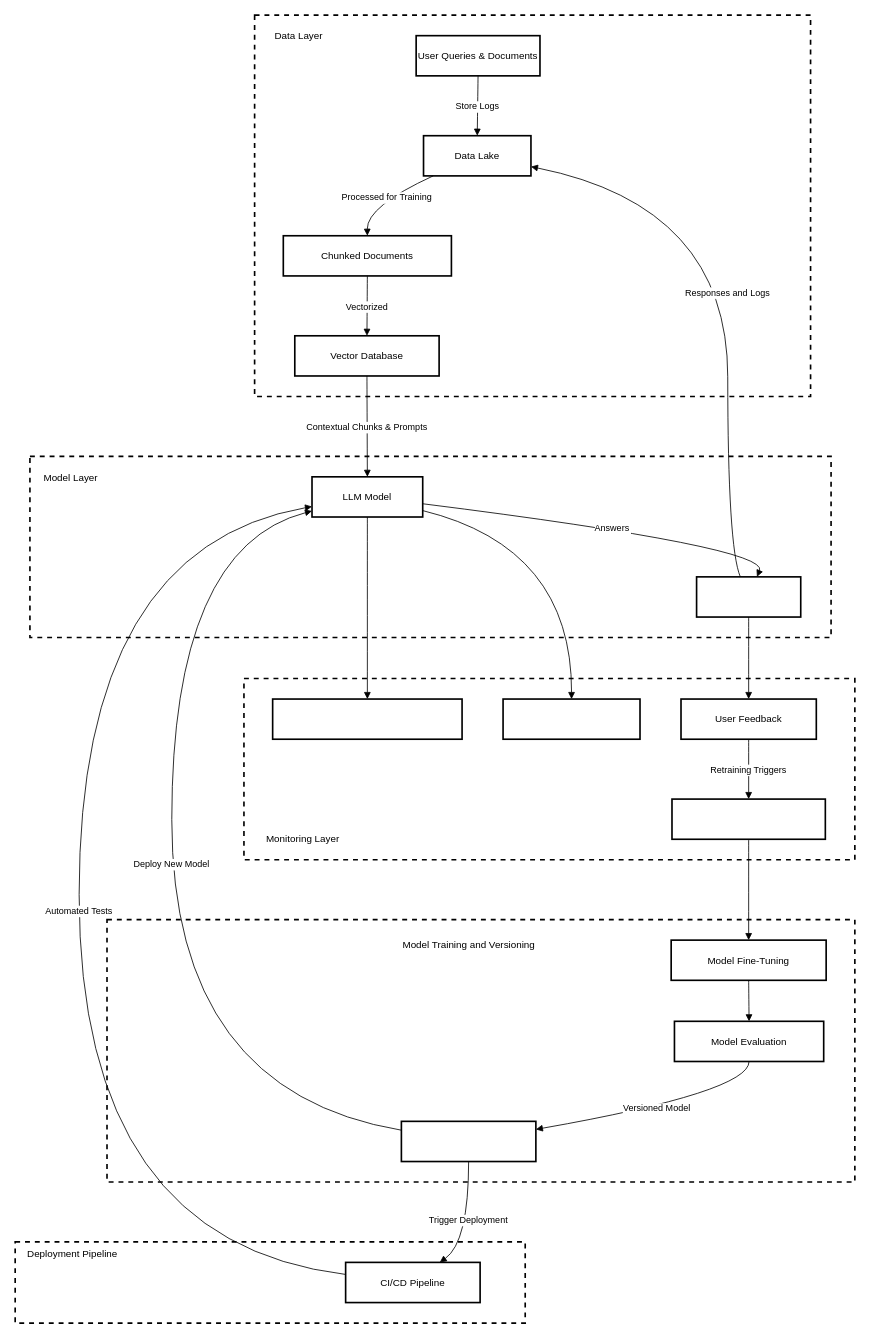
Image size: 869x1337. Some labels were removed from this diagram. The centre of each missing label's shape, as x and y in pixels:
"API Layer" goes at (748,596).
"Drift Detection" goes at (571,719).
"Model Registry" goes at (468,1141).
"Performance Monitoring" goes at (366,719).
"Retraining Trigger" goes at (748,819).
